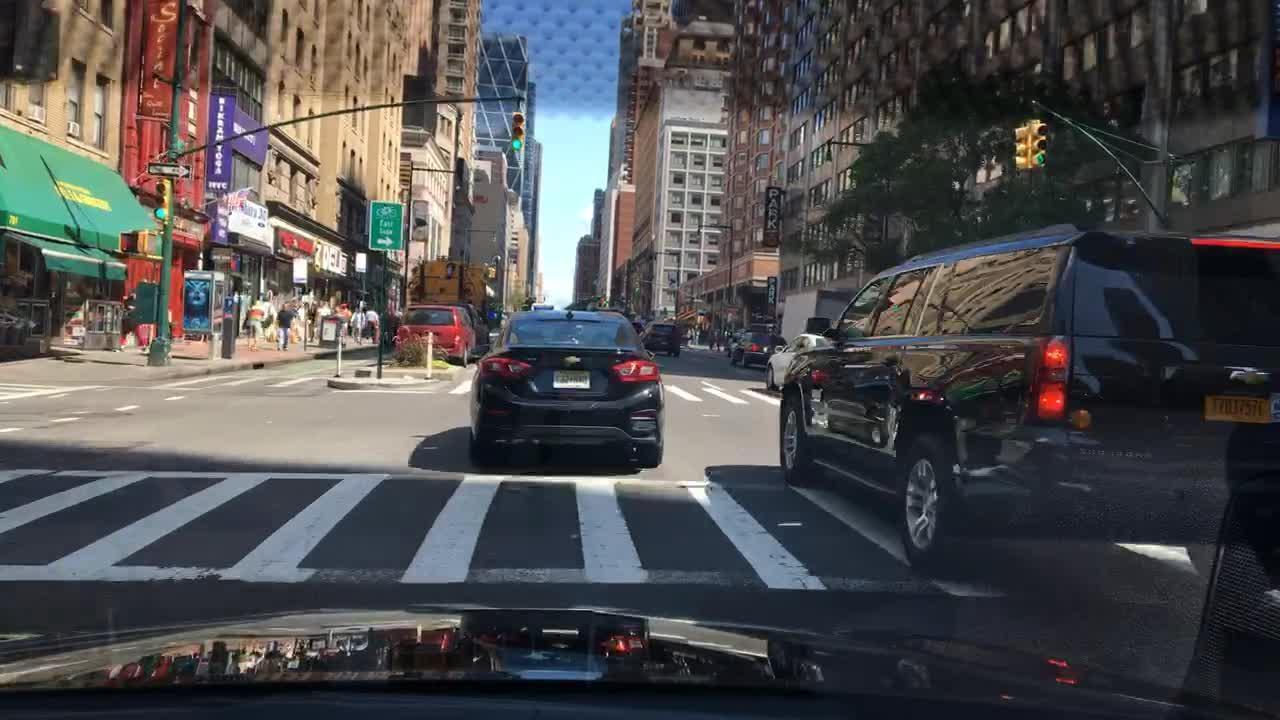chevrolet: (1209, 357, 1280, 398), (557, 350, 585, 366)
